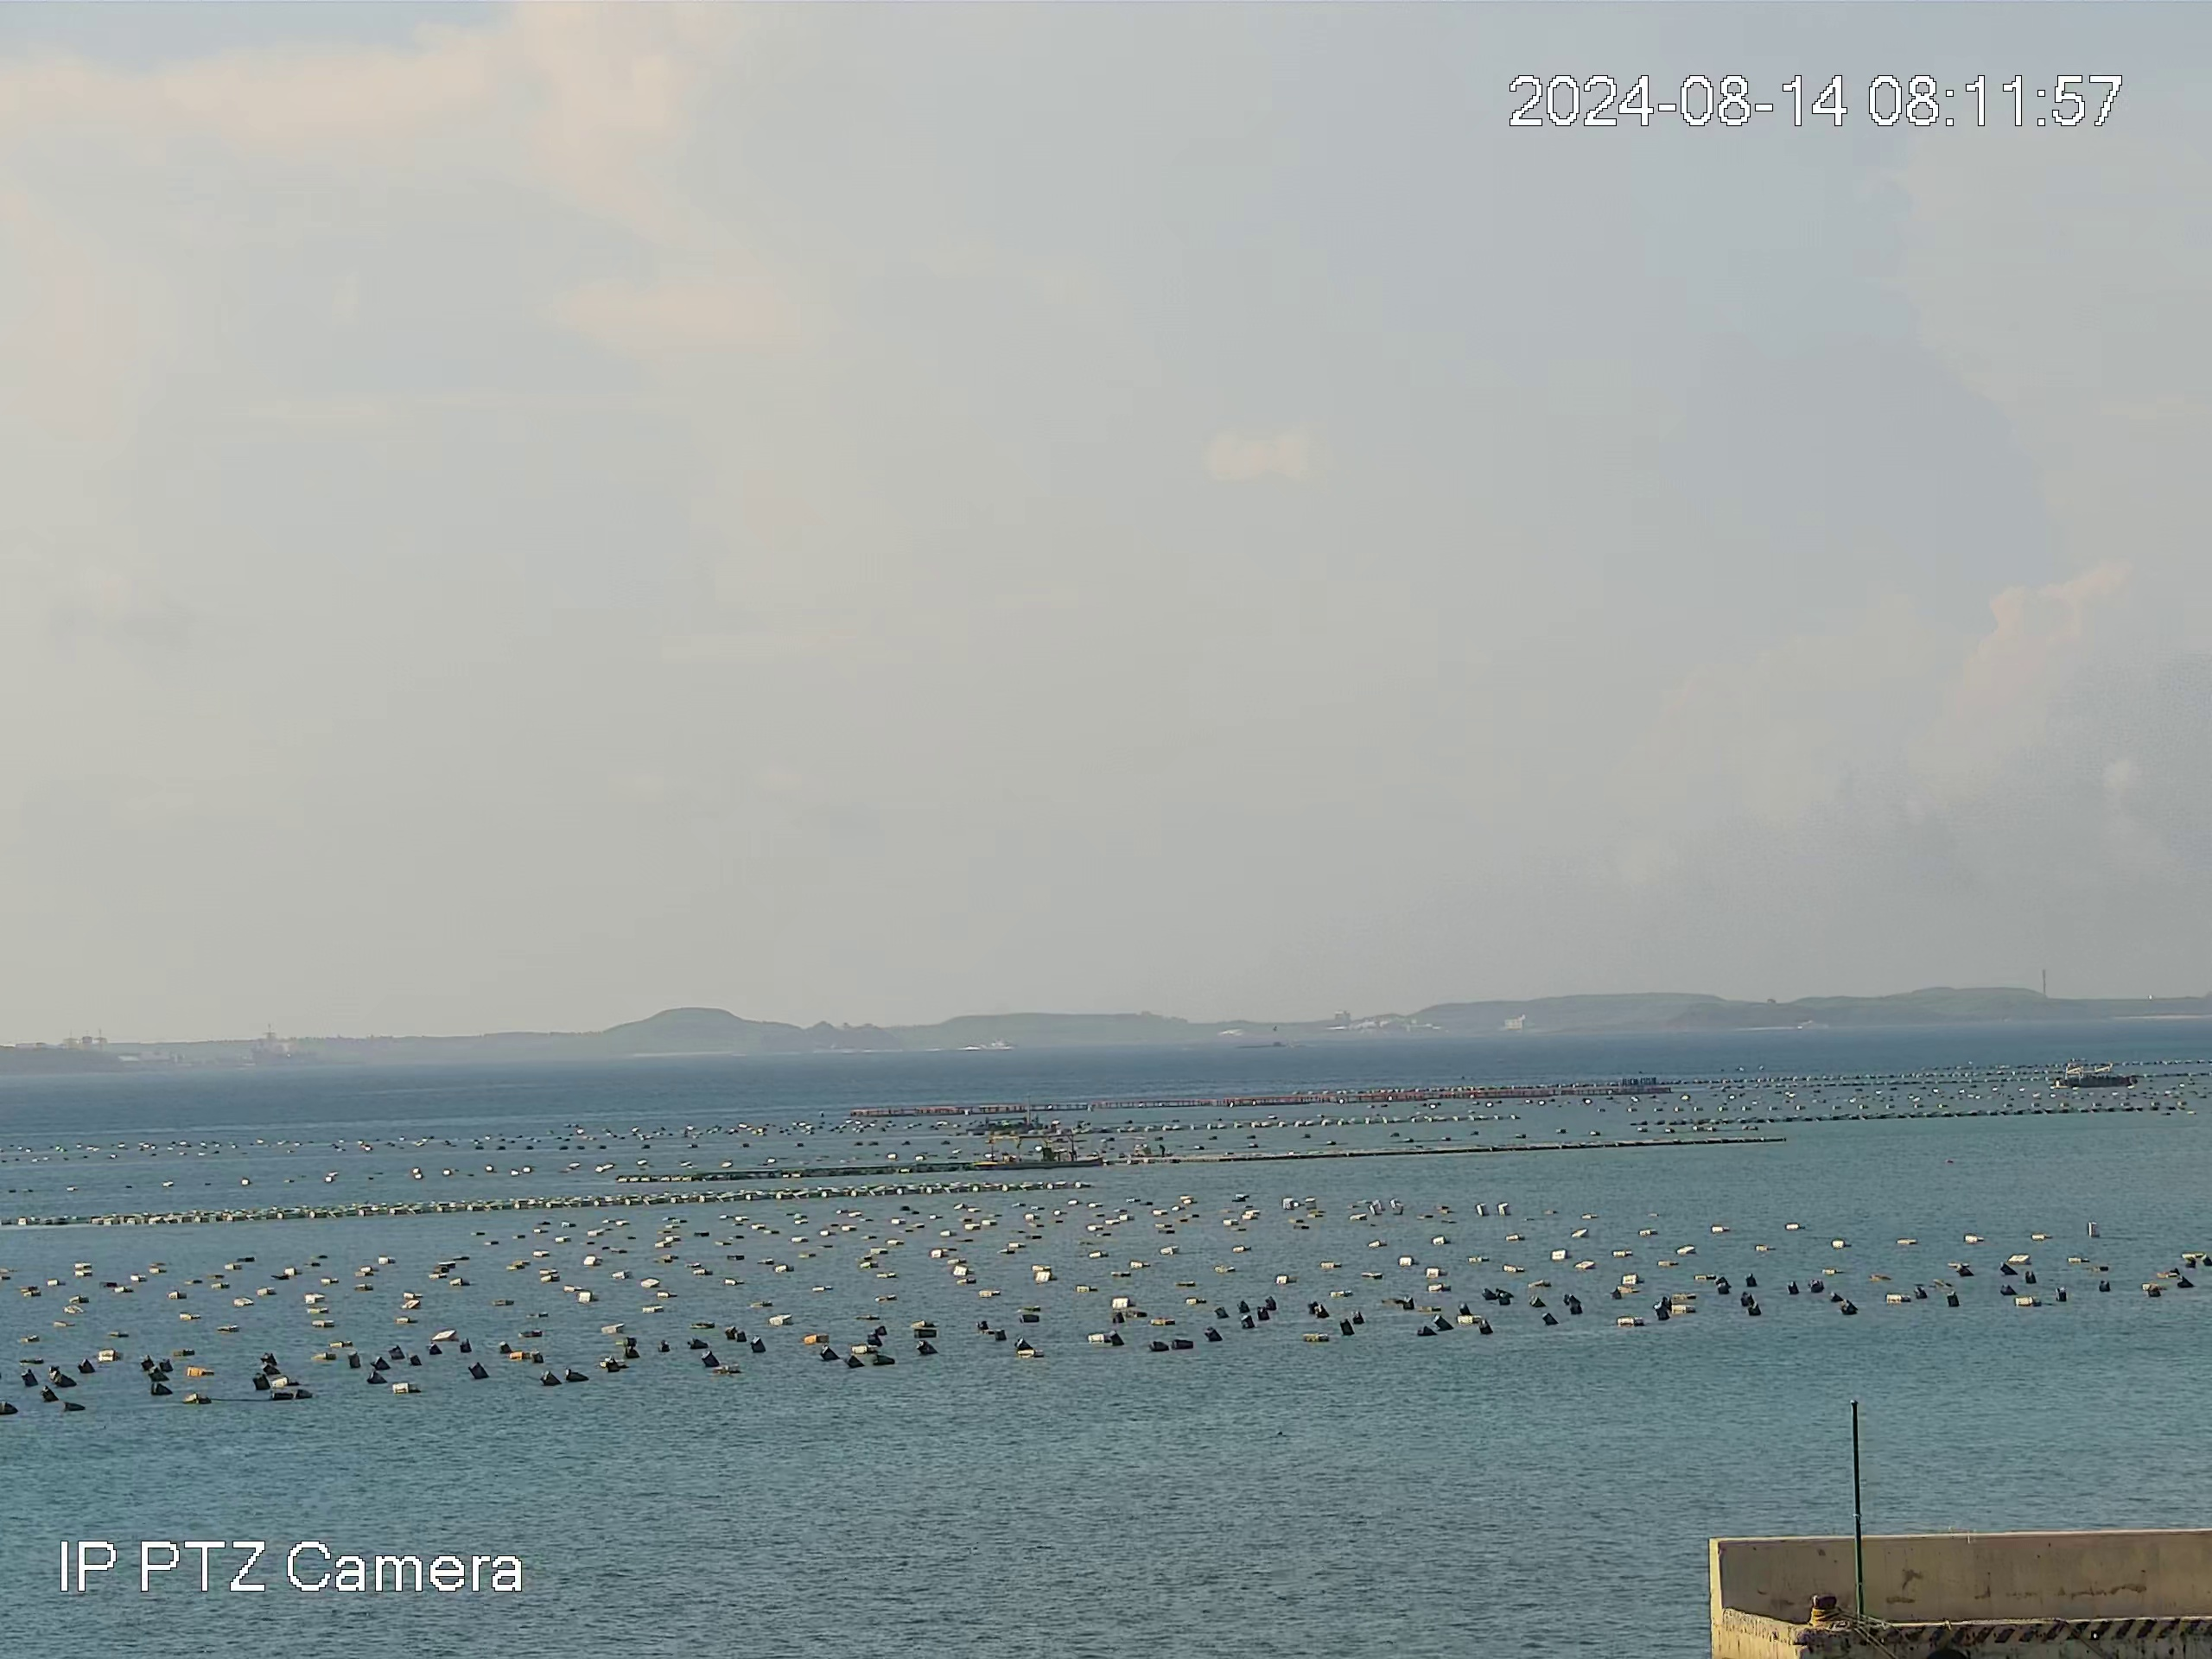boat: (977, 1136, 1103, 1166), (2057, 1058, 2137, 1091)
